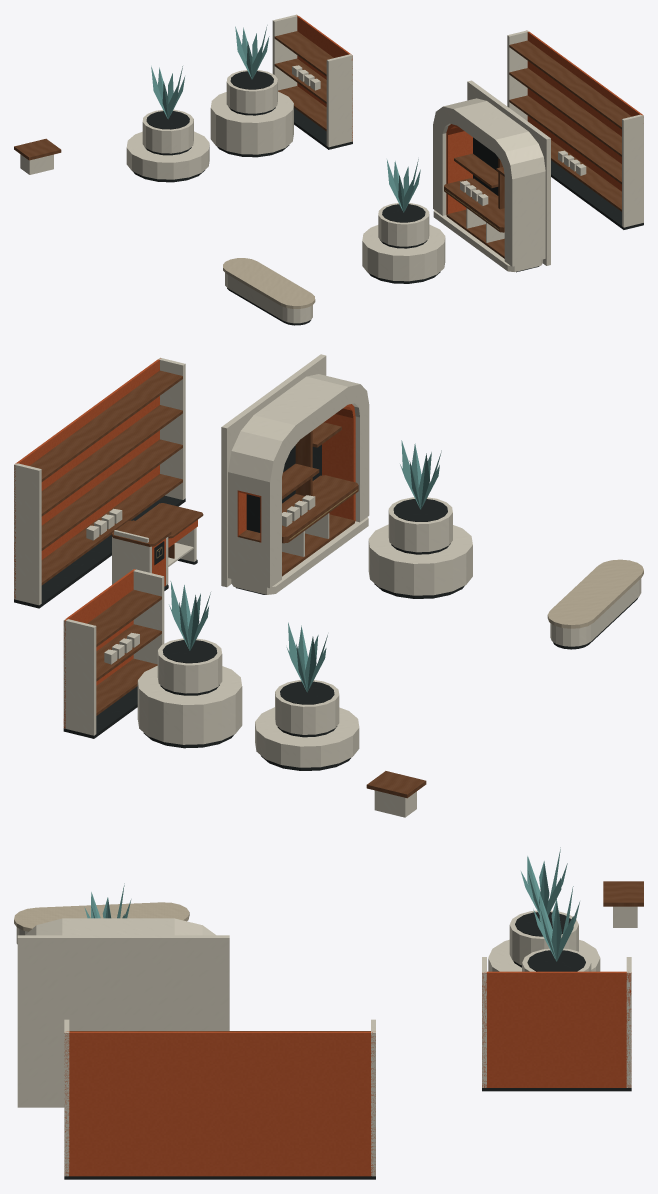
The model's file is SHOP_D09_P72_F340__fitout.glb.
3 renders of one model, top to bottom at view 1: azimuth 30°, elevation 25°; view 2: azimuth 150°, elevation 25°; view 3: azimuth 270°, elevation 25°, orthographic. The views are drawn at different scales.
Visible parts, largest first — view 1: SHOP_D09_P72_F340__fitout__ivory_enamel, SHOP_D09_P72_F340__fitout__warm_walnut, SHOP_D09_P72_F340__fitout__retail_terracotta_enamel, SHOP_D09_P72_F340__fitout__dark_rubber, SHOP_D09_P72_F340__fitout__quiet_teal, SHOP_D09_P72_F340__fitout__oatmeal_weave; view 2: SHOP_D09_P72_F340__fitout__ivory_enamel, SHOP_D09_P72_F340__fitout__warm_walnut, SHOP_D09_P72_F340__fitout__retail_terracotta_enamel, SHOP_D09_P72_F340__fitout__dark_rubber, SHOP_D09_P72_F340__fitout__quiet_teal, SHOP_D09_P72_F340__fitout__oatmeal_weave; view 3: SHOP_D09_P72_F340__fitout__retail_terracotta_enamel, SHOP_D09_P72_F340__fitout__ivory_enamel, SHOP_D09_P72_F340__fitout__dark_rubber, SHOP_D09_P72_F340__fitout__quiet_teal, SHOP_D09_P72_F340__fitout__oatmeal_weave, SHOP_D09_P72_F340__fitout__warm_walnut.
Boxes of the visible parts, x1,y1,x2,y2 form: SHOP_D09_P72_F340__fitout__ivory_enamel: (20, 14, 643, 323); SHOP_D09_P72_F340__fitout__warm_walnut: (14, 31, 631, 258); SHOP_D09_P72_F340__fitout__retail_terracotta_enamel: (297, 15, 642, 214); SHOP_D09_P72_F340__fitout__dark_rubber: (133, 71, 643, 325); SHOP_D09_P72_F340__fitout__quiet_teal: (151, 25, 420, 212); SHOP_D09_P72_F340__fitout__oatmeal_weave: (223, 258, 315, 308); SHOP_D09_P72_F340__fitout__ivory_enamel: (14, 354, 641, 817); SHOP_D09_P72_F340__fitout__warm_walnut: (30, 370, 426, 798); SHOP_D09_P72_F340__fitout__retail_terracotta_enamel: (14, 358, 355, 728); SHOP_D09_P72_F340__fitout__dark_rubber: (14, 444, 638, 770); SHOP_D09_P72_F340__fitout__quiet_teal: (169, 440, 441, 692); SHOP_D09_P72_F340__fitout__oatmeal_weave: (547, 559, 643, 628); SHOP_D09_P72_F340__fitout__retail_terracotta_enamel: (64, 971, 631, 1176); SHOP_D09_P72_F340__fitout__ivory_enamel: (16, 906, 637, 1176); SHOP_D09_P72_F340__fitout__dark_rubber: (64, 912, 631, 1179); SHOP_D09_P72_F340__fitout__quiet_teal: (84, 847, 579, 961); SHOP_D09_P72_F340__fitout__oatmeal_weave: (14, 902, 189, 931); SHOP_D09_P72_F340__fitout__warm_walnut: (69, 881, 643, 1031).
Bounding box in the file's own units: 10.25 × 3 × 10.11.
7 materials, 6 textured.
